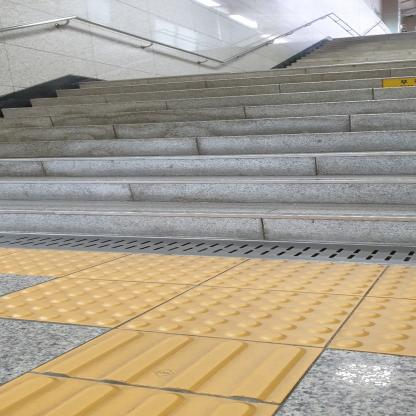go: (26, 328, 325, 407)
stop: (115, 286, 366, 348), (0, 277, 200, 328), (197, 258, 390, 296), (61, 253, 252, 284)
